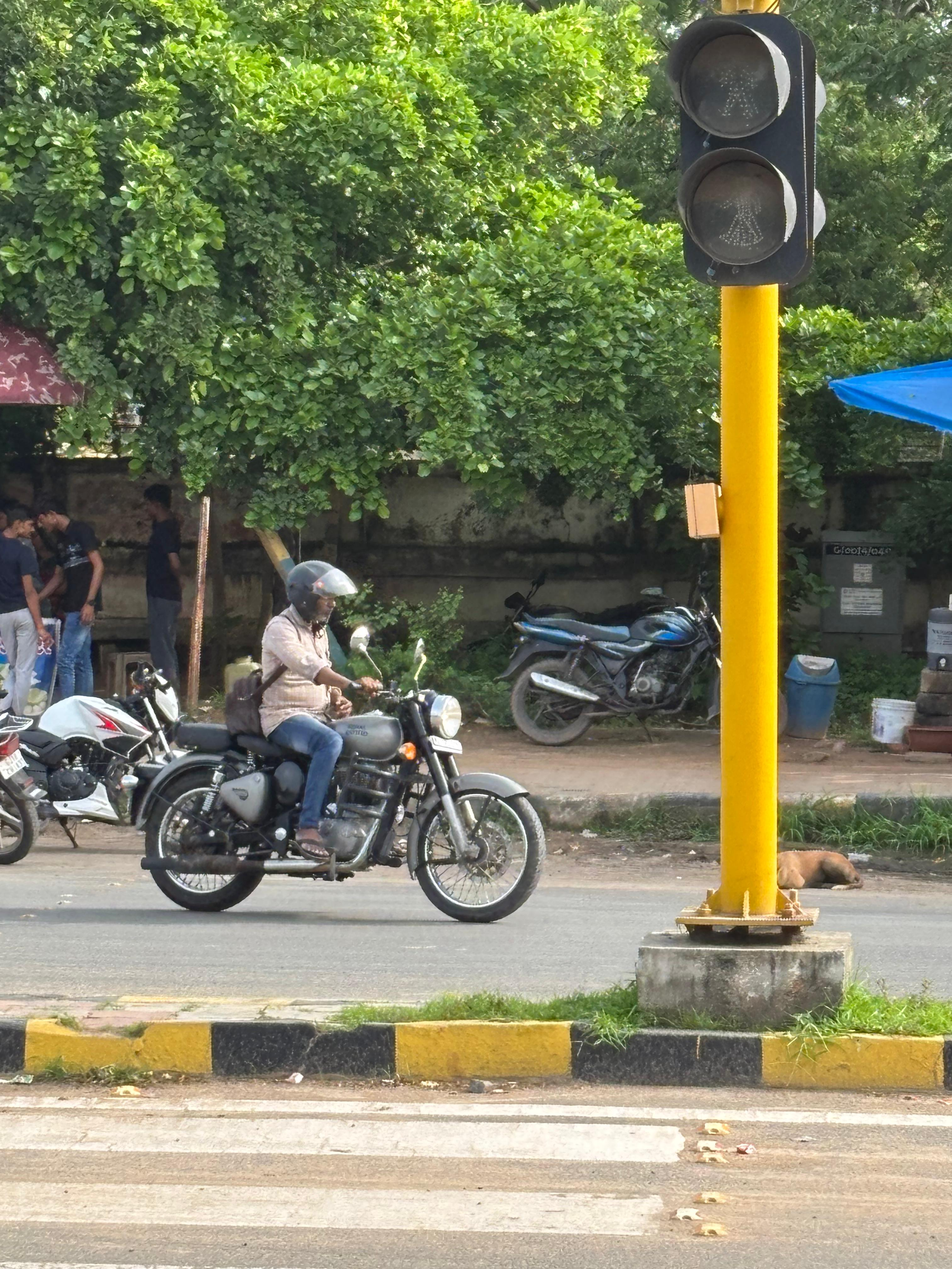BikeWithRider: (130, 557, 548, 925)
Helmet: (280, 559, 356, 631)
